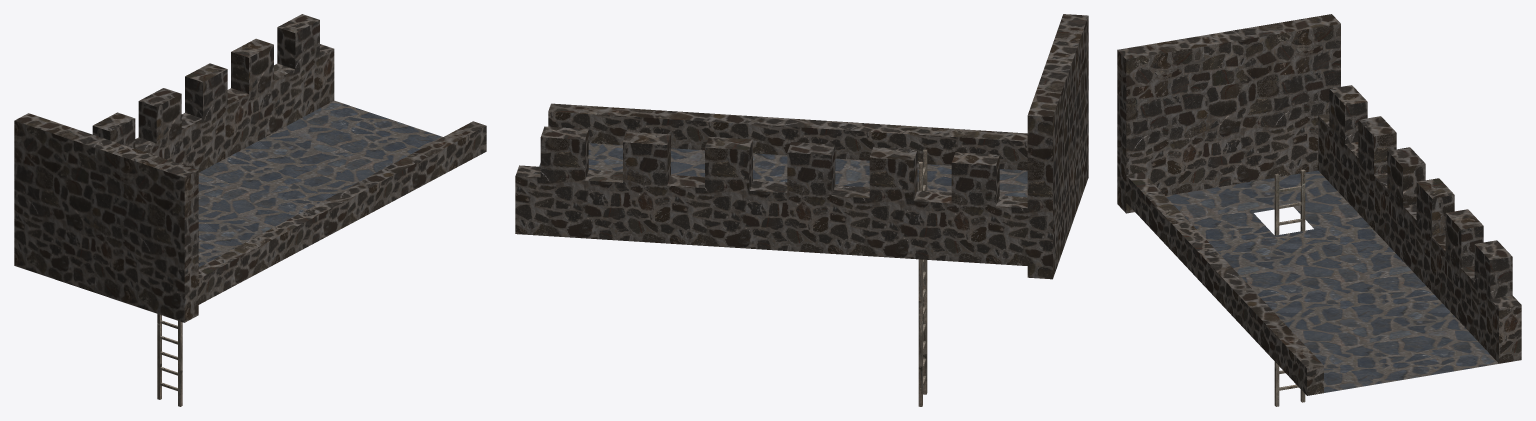
Rendered from harja.glb.
3 renders of one model, left to right at view 1: azimuth 30°, elevation 25°; view 2: azimuth 150°, elevation 25°; view 3: azimuth 270°, elevation 25°, orthographic. The views are drawn at different scales.
Visible parts, largest first — view 1: harja_architecture; view 2: harja_architecture; view 3: harja_architecture.
Part boxes in pixels (box(x1,y1,x2,y2)): harja_architecture: box(14, 14, 486, 406); harja_architecture: box(515, 14, 1088, 406); harja_architecture: box(1117, 14, 1521, 406).
Size of the model in its own units: 9.3 by 5.8 by 6.66.
Materials: 3 (3 with a texture image).
